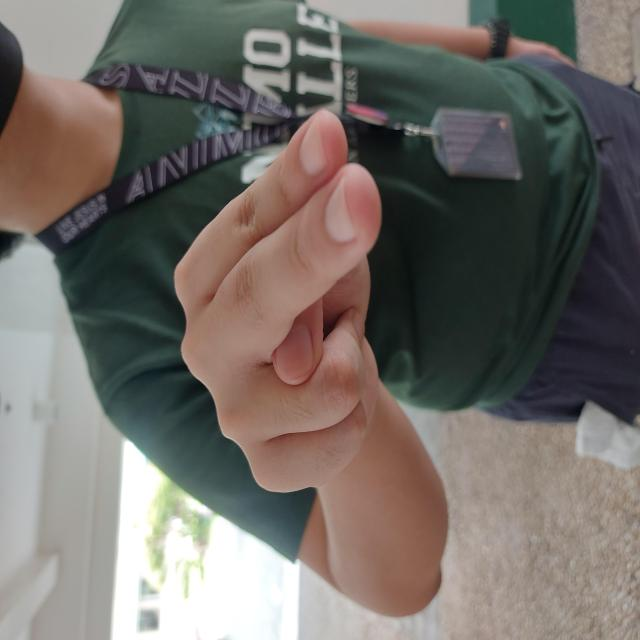N: (146, 172, 533, 384)
